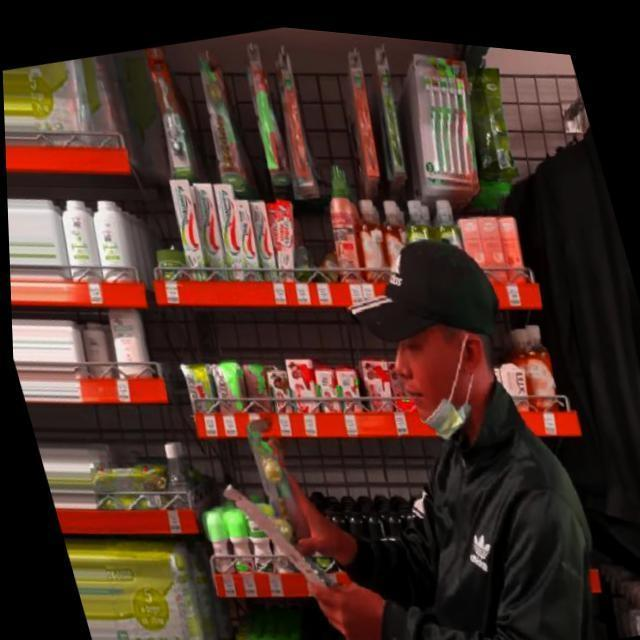hairnet: (385, 318, 478, 438)
